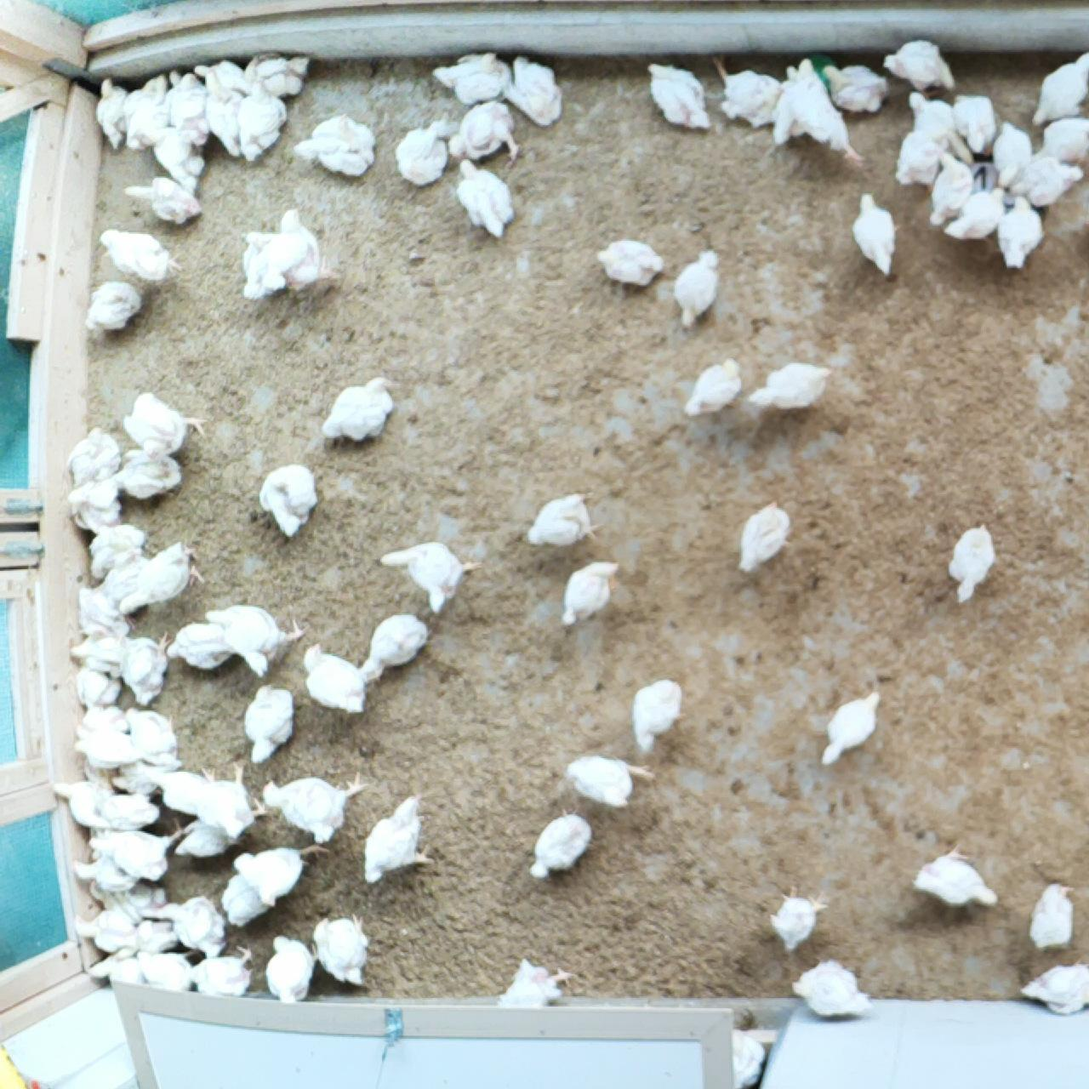chicken: (354, 784, 442, 889), (786, 54, 866, 167), (201, 597, 313, 676), (375, 535, 481, 617), (258, 768, 367, 847), (910, 834, 1002, 917), (231, 844, 335, 914), (811, 687, 894, 772), (556, 744, 662, 810), (87, 815, 189, 882), (120, 538, 207, 615), (118, 388, 211, 460), (526, 479, 610, 556), (704, 49, 789, 125), (843, 182, 904, 287), (263, 204, 336, 291), (641, 55, 716, 137), (301, 637, 375, 719), (735, 492, 802, 581), (358, 608, 436, 684), (236, 678, 301, 768), (450, 155, 518, 241), (787, 956, 874, 1023), (523, 804, 594, 886), (195, 764, 267, 842), (292, 114, 381, 177), (443, 100, 522, 170), (320, 373, 397, 444), (308, 907, 373, 991), (257, 458, 322, 542), (905, 87, 974, 164), (558, 554, 624, 634), (425, 44, 511, 105), (97, 225, 184, 285), (762, 881, 831, 956), (620, 671, 686, 749), (669, 244, 726, 334), (676, 356, 749, 425), (878, 35, 959, 97), (1028, 51, 1089, 131), (745, 356, 836, 409), (943, 517, 999, 603), (158, 895, 233, 959), (505, 51, 567, 128), (487, 953, 572, 1009), (103, 448, 187, 504), (259, 930, 319, 1007), (1015, 958, 1089, 1019), (118, 175, 203, 228), (591, 235, 670, 292), (115, 628, 175, 703), (1009, 148, 1083, 208), (924, 151, 979, 230), (238, 79, 287, 167), (122, 706, 187, 772), (145, 125, 207, 194), (821, 58, 892, 118), (393, 118, 453, 188), (996, 194, 1048, 273), (942, 84, 999, 156), (1022, 877, 1079, 949), (201, 70, 244, 162), (189, 942, 258, 998), (940, 186, 1006, 244), (164, 619, 237, 671), (126, 71, 169, 157), (128, 886, 182, 953), (63, 423, 123, 483), (83, 519, 147, 575), (84, 278, 143, 338), (75, 582, 139, 636), (63, 478, 125, 532), (241, 51, 312, 98), (169, 68, 211, 146), (53, 777, 116, 829), (893, 128, 944, 190), (989, 118, 1034, 188), (100, 543, 151, 603), (67, 905, 135, 950), (219, 871, 274, 926), (116, 68, 161, 135), (110, 752, 177, 797), (148, 767, 215, 812), (132, 946, 197, 990), (85, 878, 162, 915), (1035, 117, 1089, 169), (770, 62, 804, 143), (240, 230, 278, 301), (92, 74, 125, 154), (93, 790, 159, 830), (75, 727, 140, 766), (68, 856, 141, 889), (174, 821, 235, 860), (84, 948, 144, 986), (70, 662, 125, 703), (67, 634, 123, 674), (79, 703, 133, 733), (191, 57, 245, 85)
